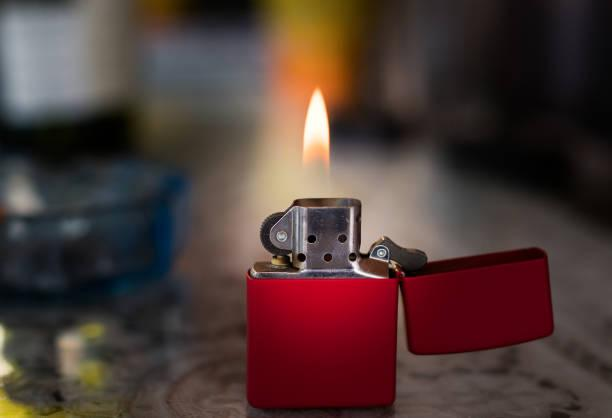Fire: (300, 88, 335, 197)
